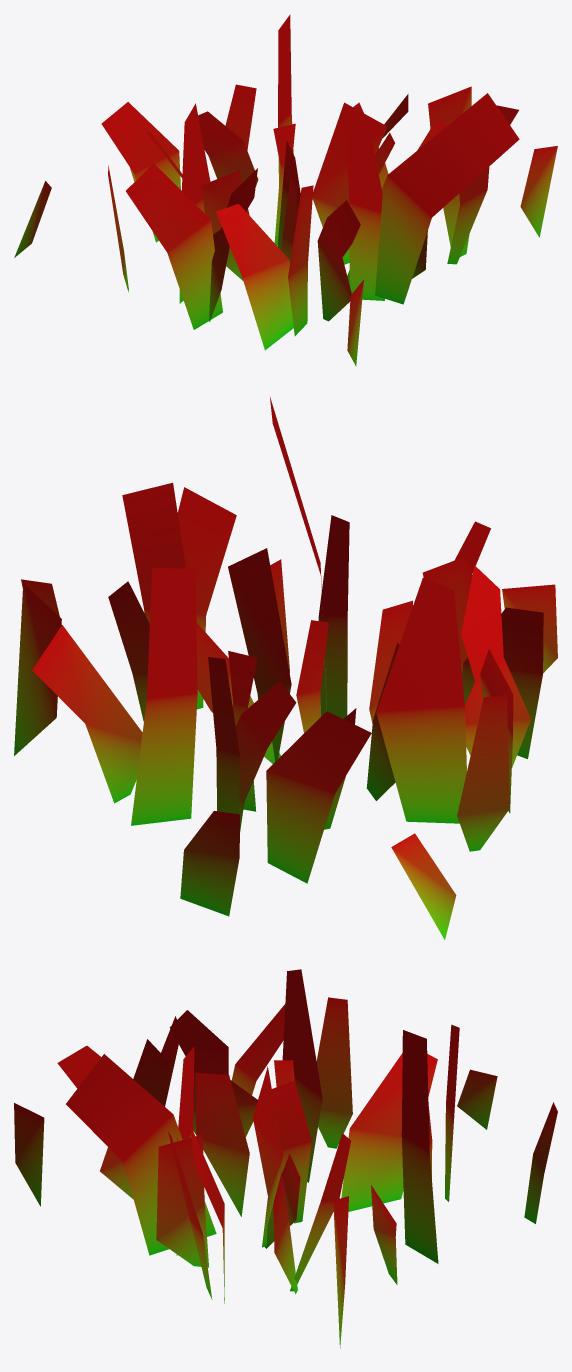
Rendered from Var2_LOD2.fbx.
The picture shows the model from 3 angles, top to bottom: view 1: azimuth 30°, elevation 25°; view 2: azimuth 150°, elevation 25°; view 3: azimuth 270°, elevation 25°; orthographic projection. The views are drawn at different scales.
Visible parts, largest first — view 1: _cd6f_Var2_LOD2; view 2: _cd6f_Var2_LOD2; view 3: _cd6f_Var2_LOD2.
Boxes of the visible parts, <box> form: _cd6f_Var2_LOD2: <box>14,14,557,366</box>; _cd6f_Var2_LOD2: <box>14,397,557,939</box>; _cd6f_Var2_LOD2: <box>14,969,557,1348</box>.
Bounding box in the file's own units: 11.21 × 5.48 × 10.84.
